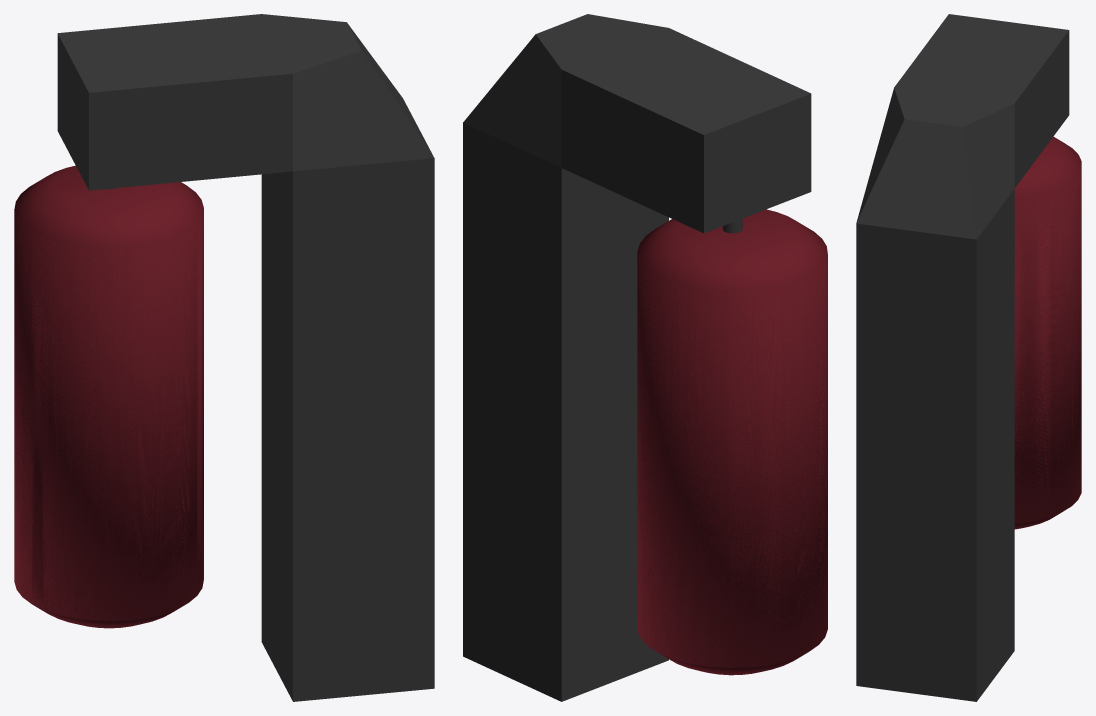
The model's file is PunchingBag.fbx.
3 renders of one model, left to right at view 1: azimuth 30°, elevation 25°; view 2: azimuth 150°, elevation 25°; view 3: azimuth 270°, elevation 25°, orthographic. The views are drawn at different scales.
Visible parts, largest first — view 1: PunchingBag; view 2: PunchingBag; view 3: PunchingBag.
Boxes of the visible parts, bbox=[...] form: PunchingBag: bbox=[14, 14, 434, 701]; PunchingBag: bbox=[463, 14, 827, 701]; PunchingBag: bbox=[856, 14, 1081, 701].
Size of the model in its own units: 129 by 214 by 79.98.
